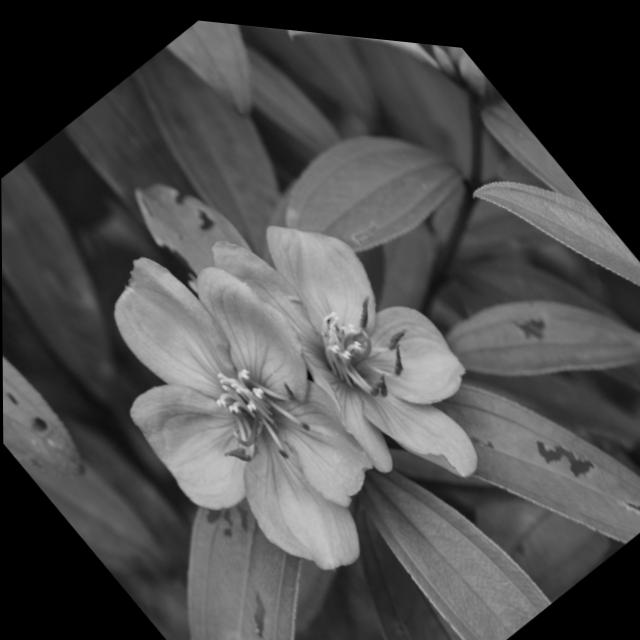Flower: (31, 106, 536, 640)
